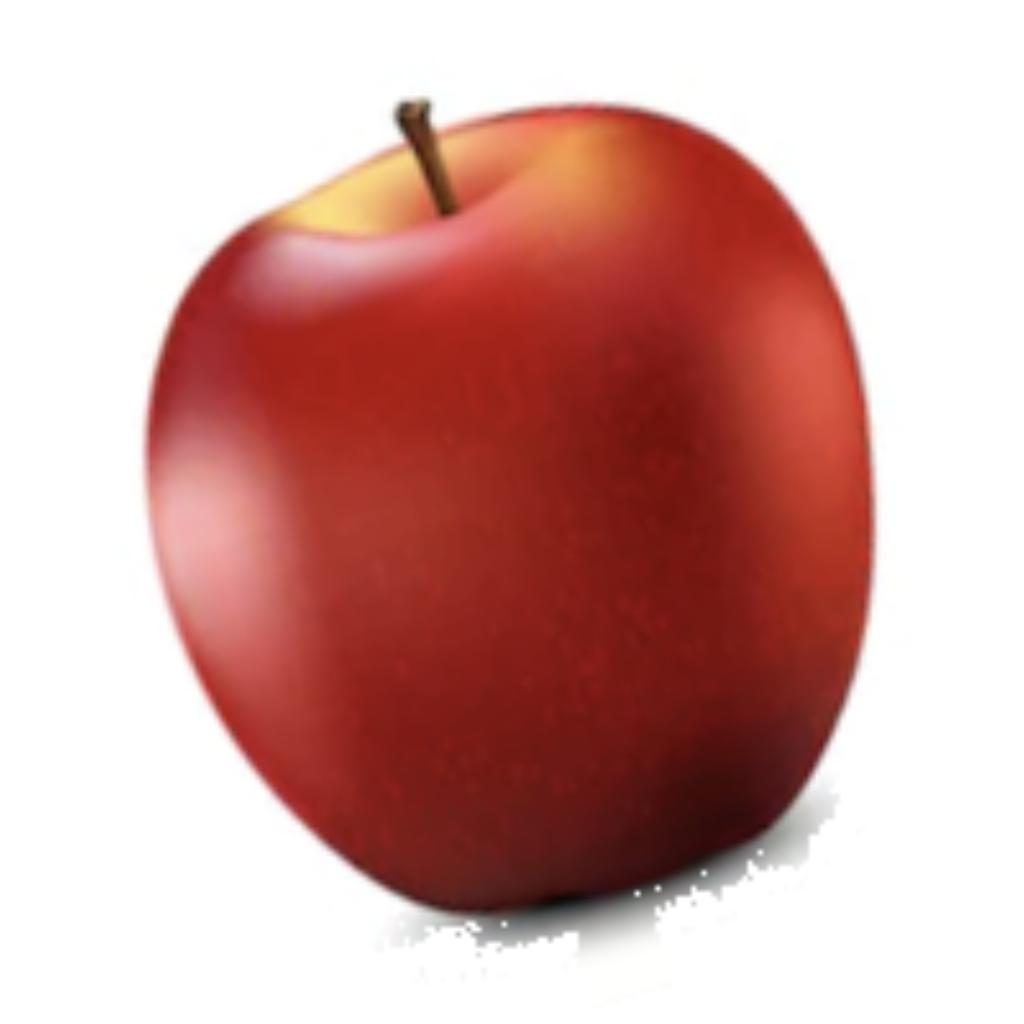apple: (133, 87, 881, 963)
